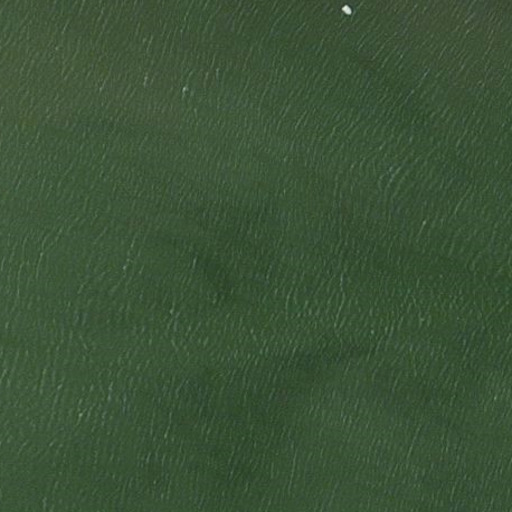ship: (339, 3, 356, 18)
